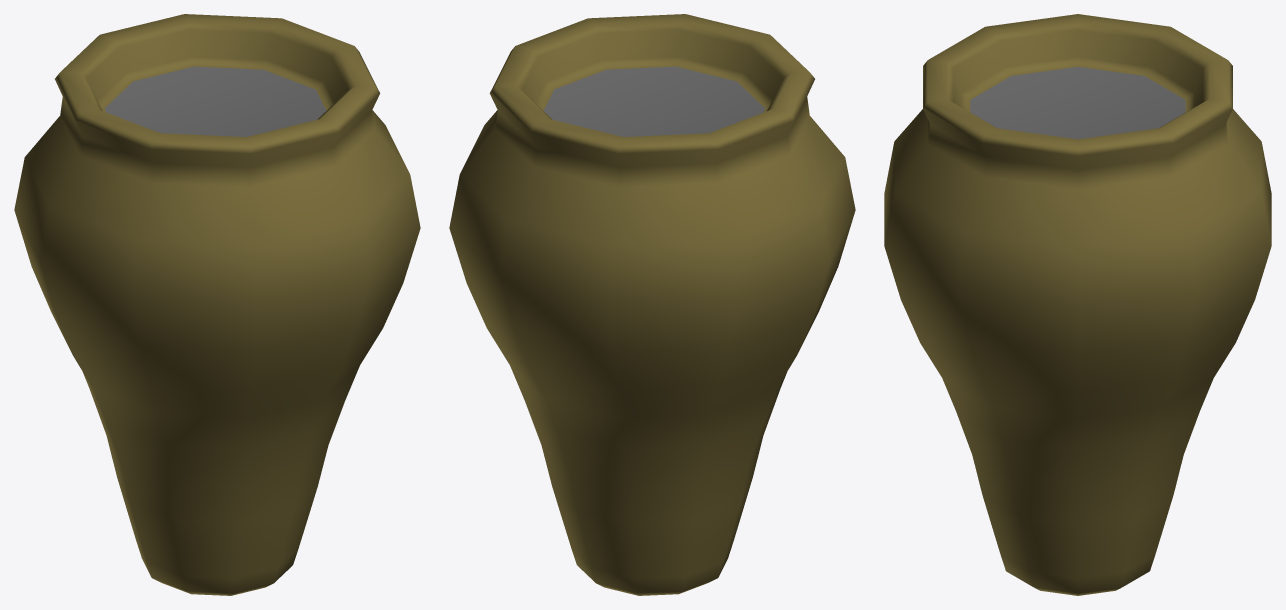
File: Vase_3.fbx
The picture shows the model from 3 angles, left to right: view 1: azimuth 30°, elevation 25°; view 2: azimuth 150°, elevation 25°; view 3: azimuth 270°, elevation 25°; orthographic projection.
Parts seen in each view (by area): view 1: pCylinder1; view 2: pCylinder1; view 3: pCylinder1.
Boxes of the visible parts, x1,y1,x2,y2 form: pCylinder1: (14, 14, 420, 595); pCylinder1: (449, 14, 855, 595); pCylinder1: (884, 14, 1271, 595).
Size of the model in its own units: 36.94 by 48.85 by 35.13.
